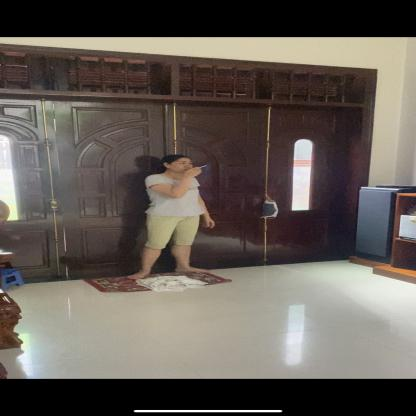cigarette: (196, 165, 208, 168)
person: (127, 151, 217, 280)
